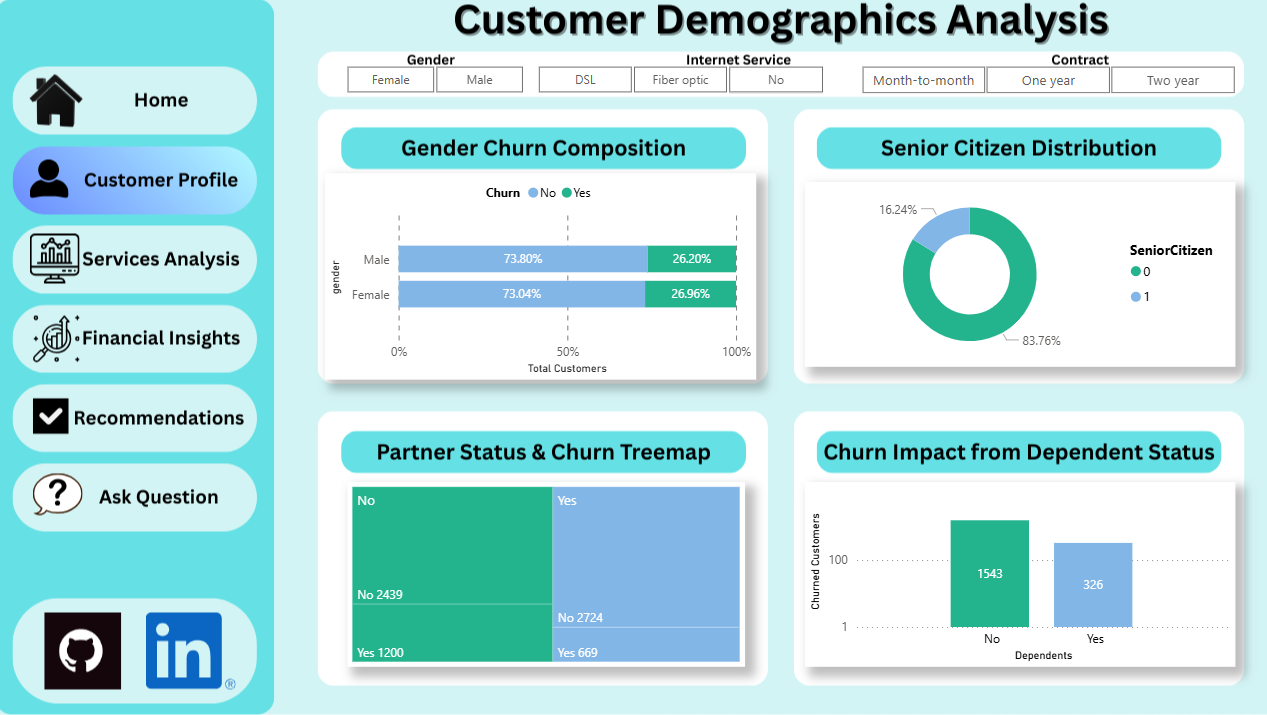

Layout of this report page (visuals, bound fields, positions):
{"tool":"powerbi","page":{"name":"Customer Profile","canvas":[1280,720],"ordinal":1},"visuals":[{"type":"hundredPercentStackedBarChart","fields":{"Y":["telecom_churn_project churn_data.Total Customers"],"Category":["telecom_churn_project churn_data.gender"],"Series":["telecom_churn_project churn_data.Churn"]},"box":[330,176.2,431.2,206.2],"z":0},{"type":"donutChart","fields":{"Y":["telecom_churn_project churn_data.Total Customers"],"Category":["telecom_churn_project churn_data.SeniorCitizen"]},"box":[810,185,430,185],"z":1000},{"type":"treemap","fields":{"Group":["telecom_churn_project churn_data.Partner"],"Values":["telecom_churn_project churn_data.Total Customers"],"Details":["telecom_churn_project churn_data.Churn"]},"box":[352.5,485,397.5,185],"z":2000},{"type":"clusteredColumnChart","fields":{"Category":["telecom_churn_project churn_data.Dependents"],"Y":["telecom_churn_project churn_data.Churned Customers"]},"box":[810,485,430,185],"z":3000},{"type":"actionButton","box":[37.5,71.2,202.5,67.5],"z":4000},{"type":"actionButton","box":[35,227.5,196.2,67.5],"z":5000},{"type":"actionButton","box":[37.5,306.2,193.8,63.8],"z":6000},{"type":"actionButton","box":[38.8,382.5,201.2,70],"z":7000},{"type":"actionButton","box":[38.8,465,192.5,67.5],"z":8000},{"type":"slicer","fields":{"Values":["telecom_churn_project churn_data.gender"]},"box":[325.7,62.7,225.6,33.8],"z":9000},{"type":"slicer","fields":{"Values":["telecom_churn_project churn_data.Contract"]},"box":[840.9,62.7,422.3,33.8],"z":10000},{"type":"slicer","fields":{"Values":["telecom_churn_project churn_data.InternetService"]},"box":[517.6,62.7,334.2,33.8],"z":11000},{"type":"actionButton","box":[150,612.5,90,83.8],"z":12000},{"type":"actionButton","box":[48.8,612.5,90,83.8],"z":13000},{"type":"actionButton","box":[46.2,612.5,81.2,83.8],"z":14000}]}

Visuals, with their boxes in screenshot pixels (x1, y1, x2, y2), scaled from the page's 1280x720 canvas onto the 1267x715 screenshot:
hundredPercentStackedBarChart - telecom_churn_project churn_data.Total Customers x telecom_churn_project churn_data.gender: locate(327, 175, 753, 380)
donutChart - telecom_churn_project churn_data.Total Customers x telecom_churn_project churn_data.SeniorCitizen: locate(802, 184, 1227, 367)
treemap - telecom_churn_project churn_data.Partner x telecom_churn_project churn_data.Total Customers: locate(349, 482, 742, 665)
clusteredColumnChart - telecom_churn_project churn_data.Dependents x telecom_churn_project churn_data.Churned Customers: locate(802, 482, 1227, 665)
actionButton: locate(37, 71, 238, 138)
actionButton: locate(35, 226, 229, 293)
actionButton: locate(37, 304, 229, 367)
actionButton: locate(38, 380, 238, 449)
actionButton: locate(38, 462, 229, 529)
slicer - telecom_churn_project churn_data.gender: locate(322, 62, 546, 96)
slicer - telecom_churn_project churn_data.Contract: locate(832, 62, 1250, 96)
slicer - telecom_churn_project churn_data.InternetService: locate(512, 62, 843, 96)
actionButton: locate(148, 608, 238, 691)
actionButton: locate(48, 608, 137, 691)
actionButton: locate(46, 608, 126, 691)
